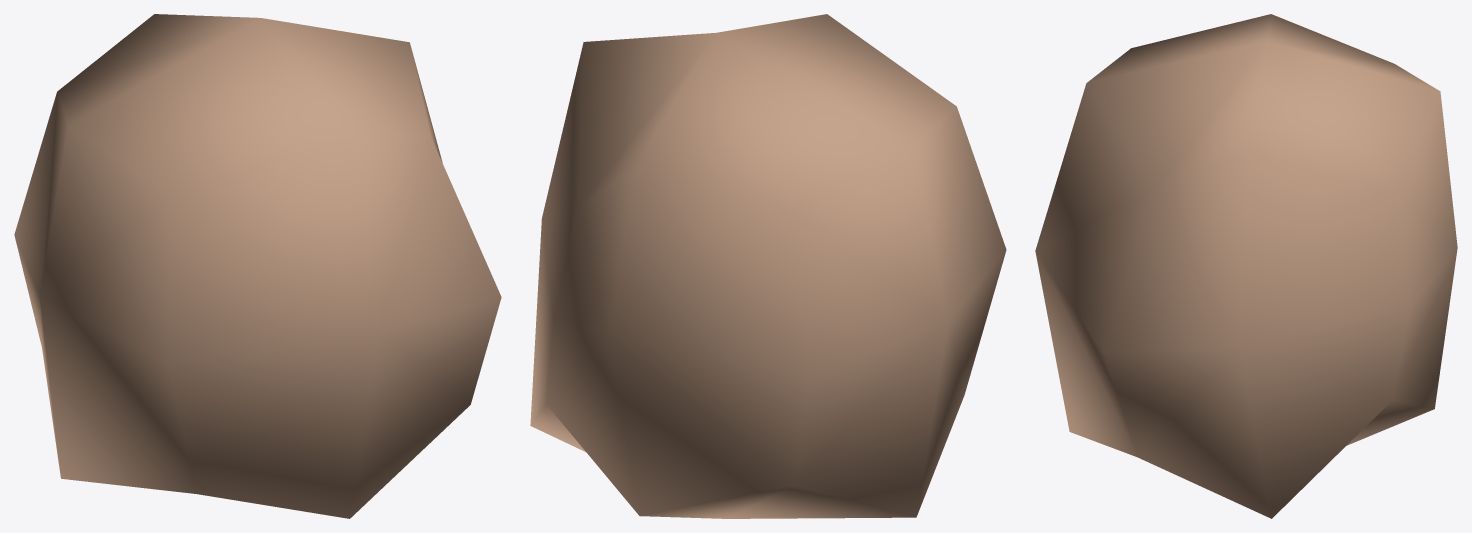
The model's file is ST_Cailloux_01a.fbx.
3 views of the same model, side by side, from view 1: azimuth 30°, elevation 25°; view 2: azimuth 150°, elevation 25°; view 3: azimuth 270°, elevation 25° (orthographic). The views are drawn at different scales.
Visible parts, largest first — view 1: cube; view 2: cube; view 3: cube.
Part boxes in pixels (left/top/right/bottom): cube: left=14, top=14, right=501, bottom=518; cube: left=530, top=14, right=1006, bottom=518; cube: left=1035, top=14, right=1457, bottom=518.
Bounding box in the file's own units: 132 × 146 × 126.
